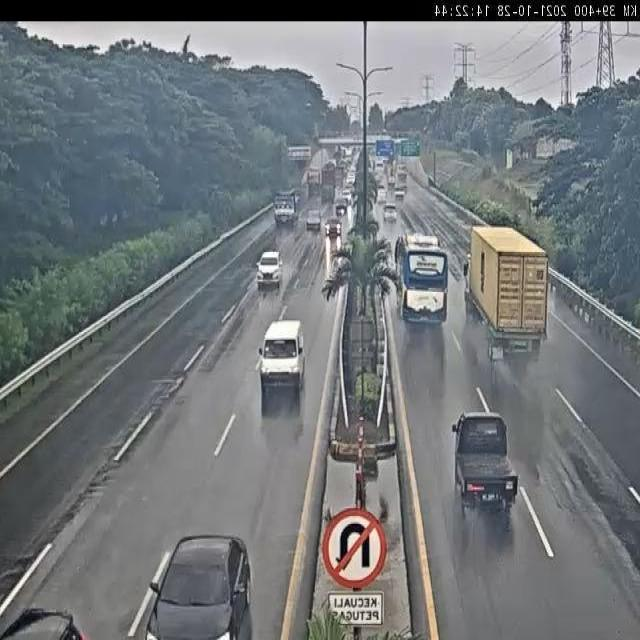Bus: (396, 233, 449, 328), (397, 164, 407, 184)
Car: (142, 534, 254, 636), (257, 250, 283, 286), (306, 209, 322, 232), (325, 218, 342, 238), (383, 203, 397, 221), (335, 198, 347, 216), (342, 189, 352, 207), (388, 175, 396, 188)
Truck: (464, 226, 550, 370), (452, 411, 518, 524), (272, 190, 298, 228), (307, 169, 321, 202)
Van: (258, 319, 306, 409)
